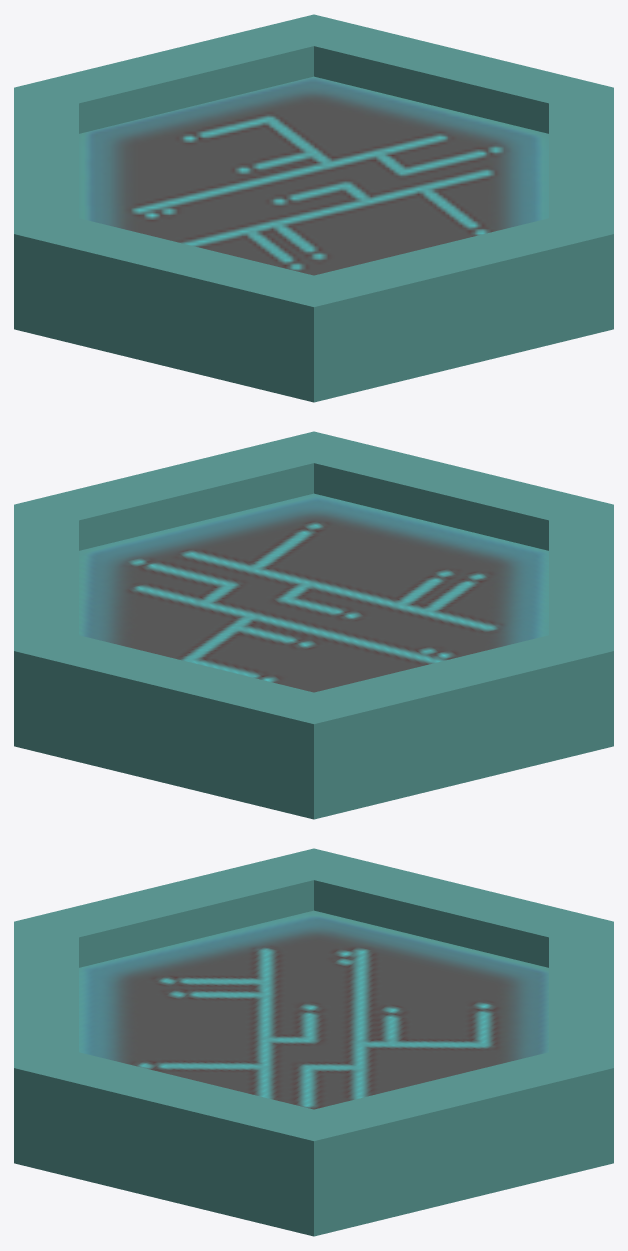
File: Coin v2.fbx
3 renders of one model, top to bottom at view 1: azimuth 30°, elevation 25°; view 2: azimuth 150°, elevation 25°; view 3: azimuth 270°, elevation 25°, orthographic.
Parts seen in each view (by area): view 1: Coin_v2; view 2: Coin_v2; view 3: Coin_v2.
Boxes of the visible parts, left/top/right/bottom form: Coin_v2: left=14, top=14, right=613, bottom=402; Coin_v2: left=14, top=431, right=613, bottom=819; Coin_v2: left=14, top=848, right=613, bottom=1236.
Bounding box in the file's own units: 1824 × 277 × 1579.
1 material, 1 textured.
